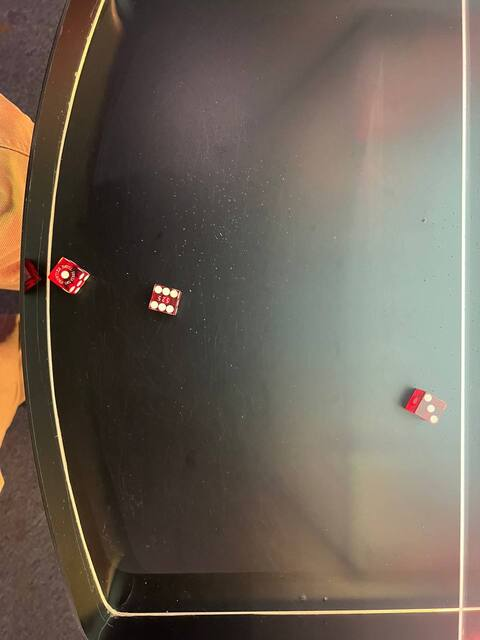one: (47, 255, 82, 290)
six: (144, 281, 183, 316)
three: (412, 388, 449, 427)
